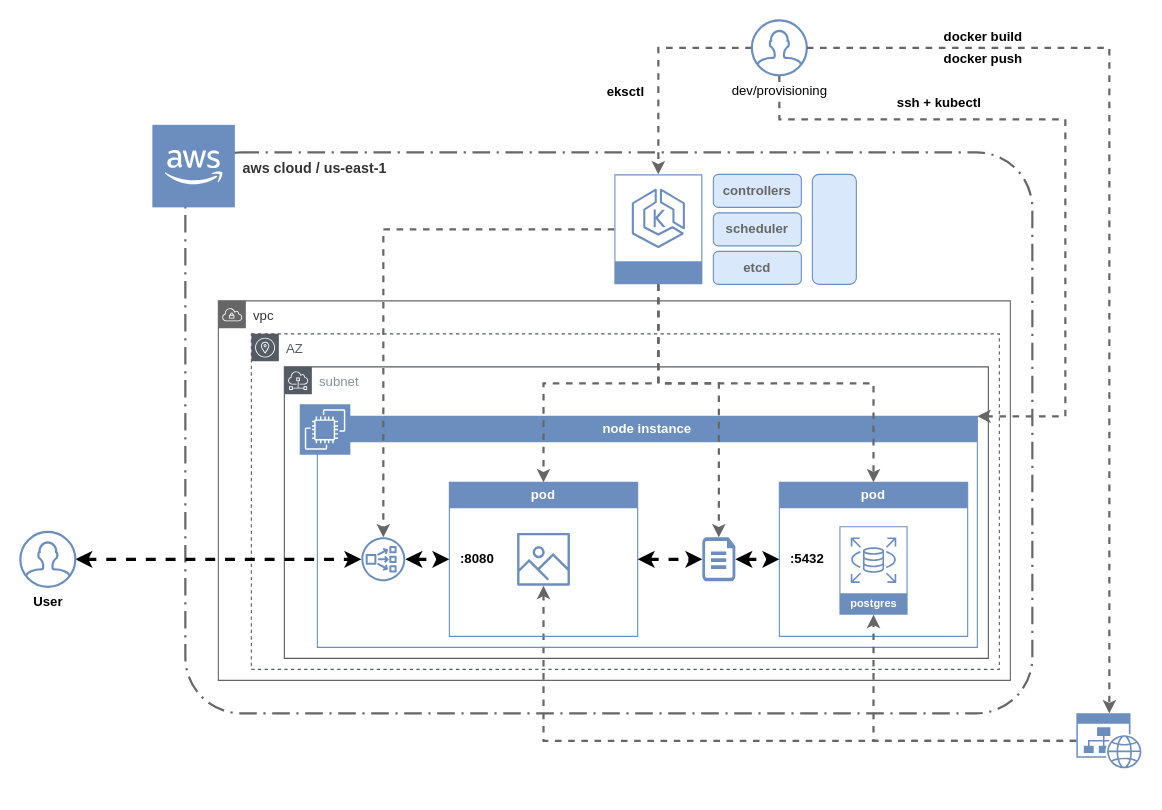
This 1162x810 diagram has some shape labels left out. The shapes that lost their labels are listed below. From the top down, each one's centre as x and y in pixels, then its label:
At [657,228]: "Amazon EKS".
At [833,228]: "API Server".
At [382,558]: "LoadBalancer svc".
At [543,559]: "twoge:latest".
At [718,559]: "ClusterIP".
At [1109,740]: "dockerhub".
